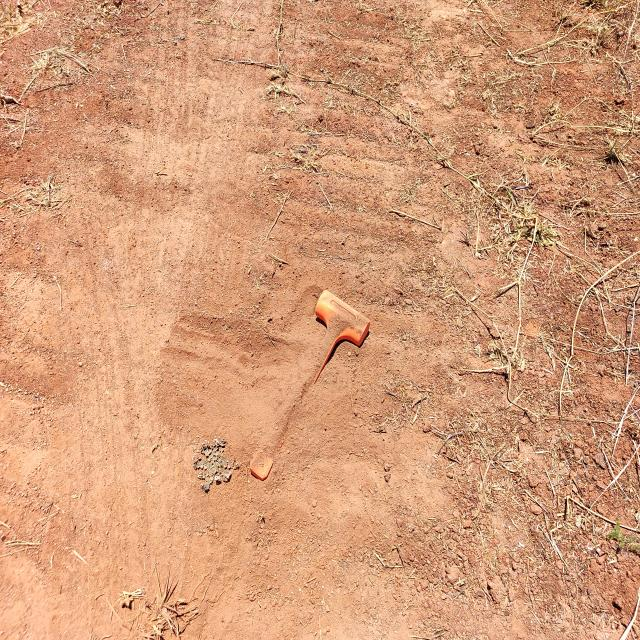Orange_hammer: (247, 289, 375, 482)
